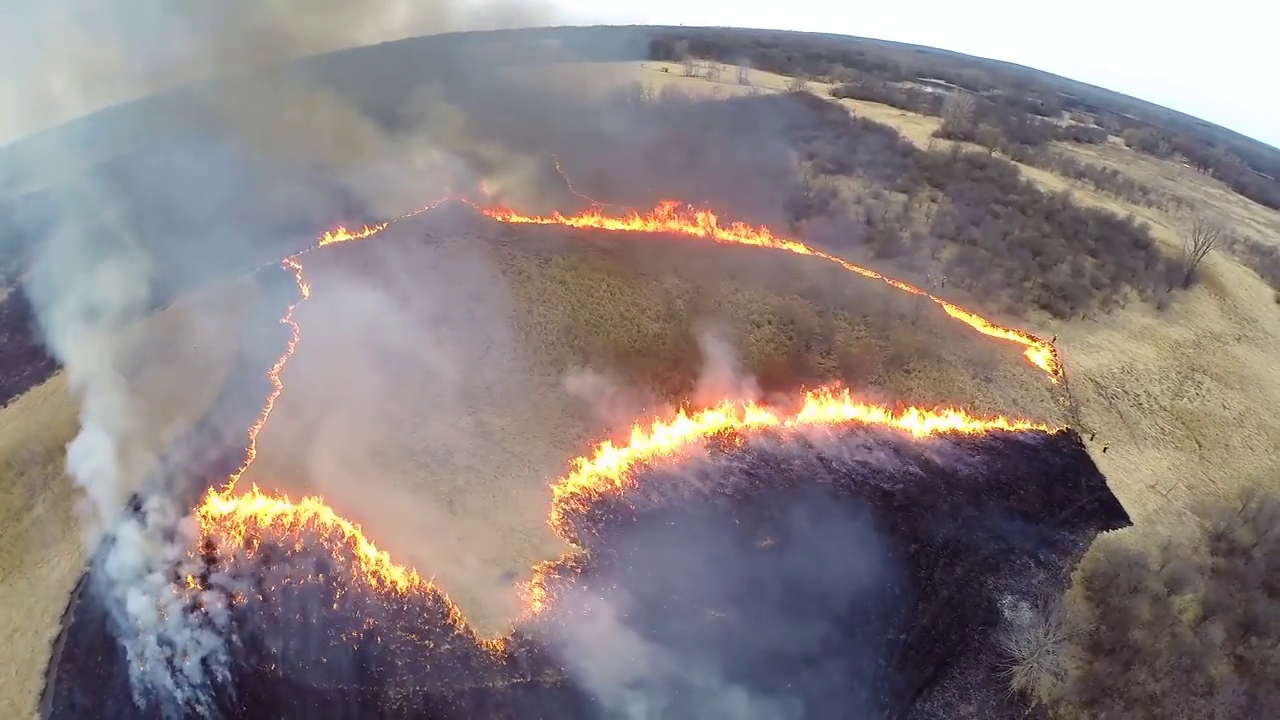forest_fire: (195, 253, 510, 656), (472, 201, 1064, 382), (548, 387, 1048, 542), (305, 223, 391, 251), (517, 561, 554, 619)
